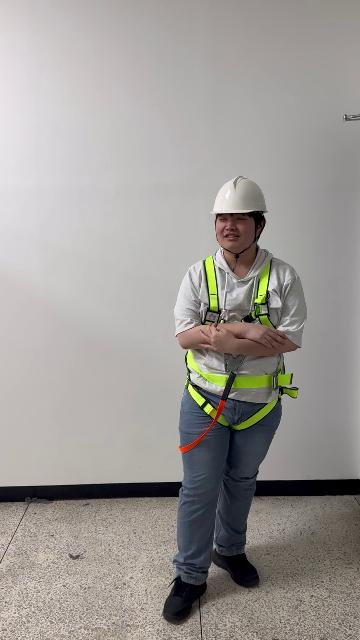helmet_worn: (209, 175, 269, 216)
shoe_not_worn: (161, 576, 206, 623), (211, 546, 258, 586)
vest_worn: (183, 255, 295, 428)
